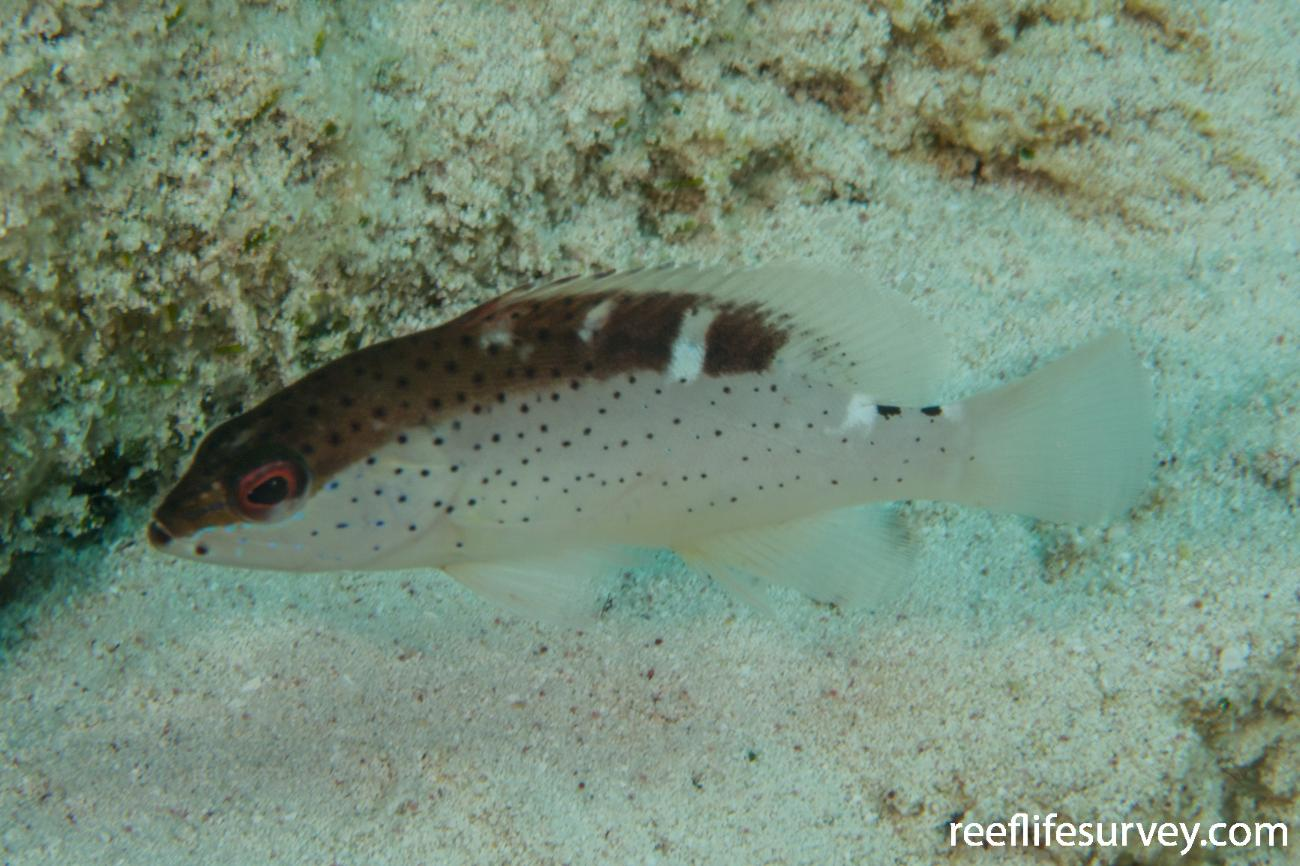Cephalopholis_fulvaw: (73, 224, 1209, 620)
